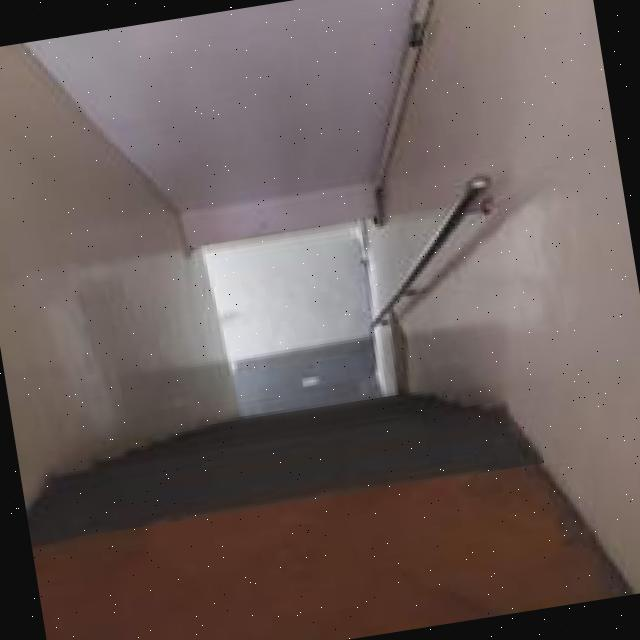stairs: (0, 184, 616, 582)
